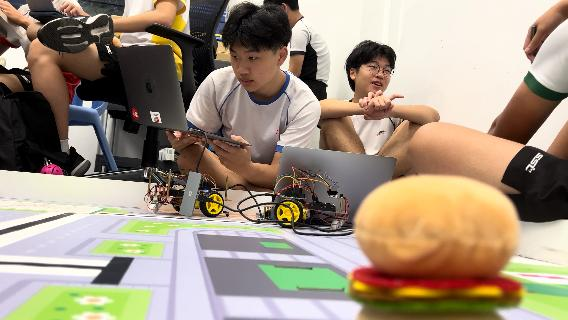burger: (346, 172, 524, 316)
